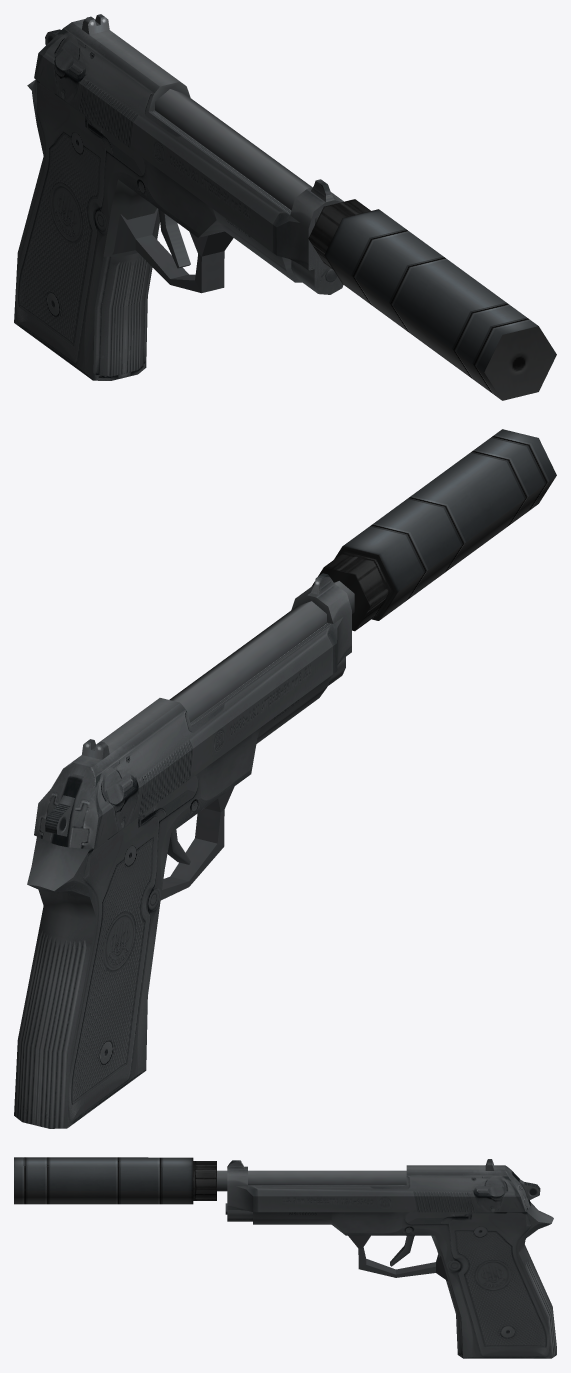
Rendered from beretta_m9.glb.
The picture shows the model from 3 angles, top to bottom: view 1: azimuth 30°, elevation 25°; view 2: azimuth 150°, elevation 25°; view 3: azimuth 270°, elevation 25°; orthographic projection. The views are drawn at different scales.
Visible parts, largest first — view 1: Frame, Slider, Supressor, Barrel, TriggerShield, Trigger; view 2: Frame, Slider, Supressor, Barrel, TriggerShield; view 3: Frame, Slider, Supressor, Barrel, TriggerShield, Trigger.
Part boxes in pixels (<box>): Frame: <box>14,79,301,380</box>; Slider: <box>34,14,343,294</box>; Supressor: <box>308,199,556,400</box>; Barrel: <box>155,89,319,224</box>; TriggerShield: <box>112,208,233,293</box>; Trigger: <box>158,209,190,268</box>; Frame: <box>14,676,330,1128</box>; Slider: <box>34,573,351,849</box>; Supressor: <box>311,429,556,631</box>; Barrel: <box>169,581,354,722</box>; TriggerShield: <box>160,786,234,900</box>; Frame: <box>253,1202,556,1358</box>; Slider: <box>227,1159,530,1221</box>; Supressor: <box>14,1157,216,1204</box>; Barrel: <box>217,1170,406,1191</box>; TriggerShield: <box>348,1235,448,1281</box>; Trigger: <box>390,1235,414,1266</box>.
Bounding box in the file's own units: 0.0293 × 0.1309 × 0.3384.
Materials: 2 (2 with a texture image).
